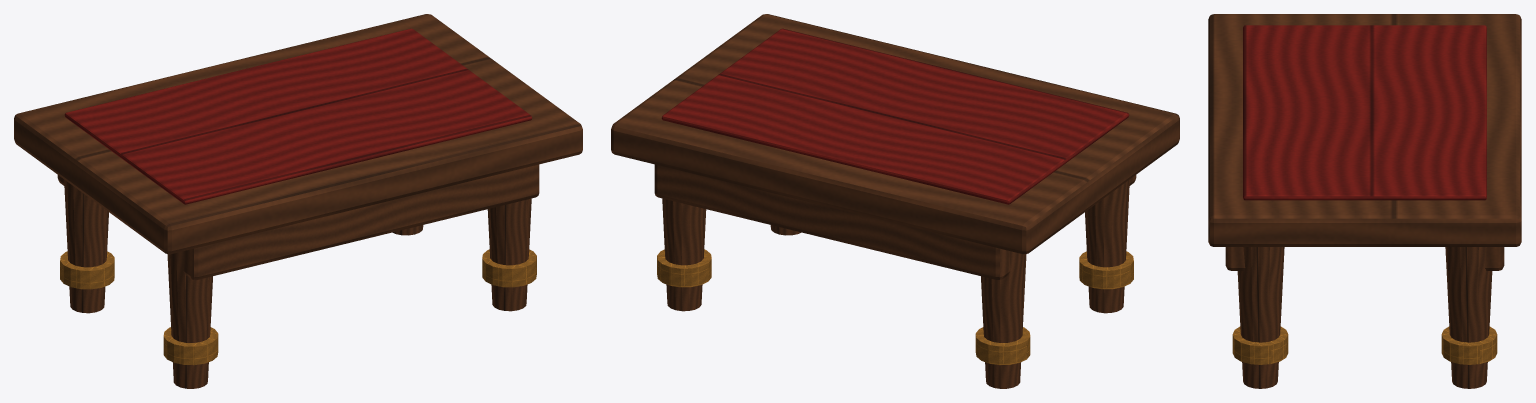
The model's file is tea_table.glb.
3 views of the same model, side by side, from view 1: azimuth 30°, elevation 25°; view 2: azimuth 150°, elevation 25°; view 3: azimuth 270°, elevation 25° (orthographic).
Visible parts, largest first — view 1: tea_table_Walnut, tea_table_Lacquer, tea_table_Brass; view 2: tea_table_Walnut, tea_table_Lacquer, tea_table_Brass; view 3: tea_table_Lacquer, tea_table_Walnut, tea_table_Brass.
Part boxes in pixels (x1,y1,x2,y2): tea_table_Walnut: (14, 14, 582, 388); tea_table_Lacquer: (64, 28, 532, 204); tea_table_Brass: (60, 249, 536, 365); tea_table_Walnut: (611, 14, 1179, 388); tea_table_Lacquer: (661, 28, 1129, 204); tea_table_Brass: (657, 249, 1133, 365); tea_table_Lacquer: (1243, 25, 1486, 200); tea_table_Walnut: (1208, 14, 1521, 388); tea_table_Brass: (1232, 326, 1497, 364).
Size of the model in its own units: 2.1 by 0.9165 by 1.35.
3 materials, 3 textured.
